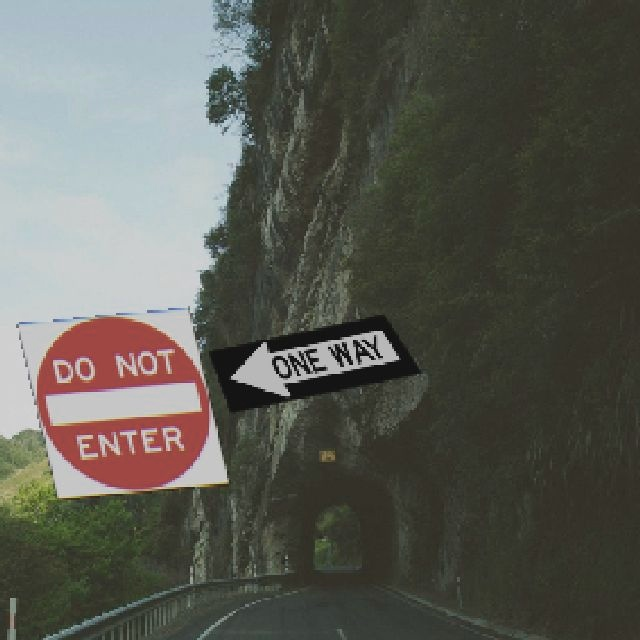DO_NOT_ENTER: (14, 305, 229, 499)
ONE_WAY_ left: (206, 312, 421, 412)
